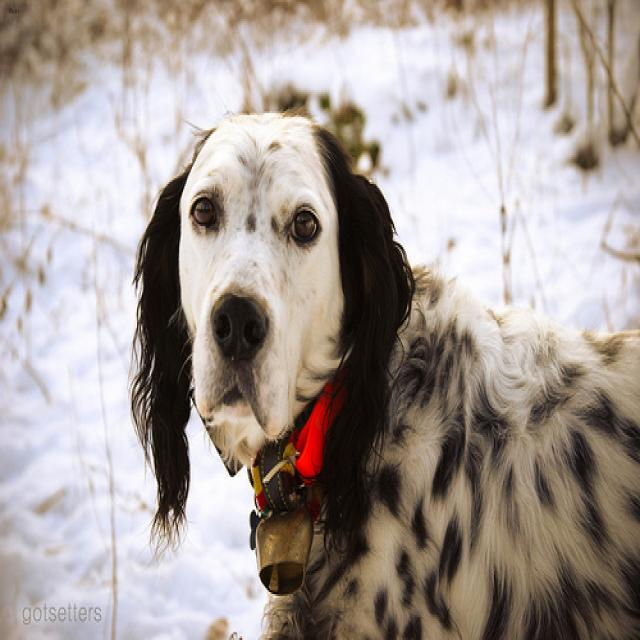dog-english_setter: (123, 94, 637, 636)
